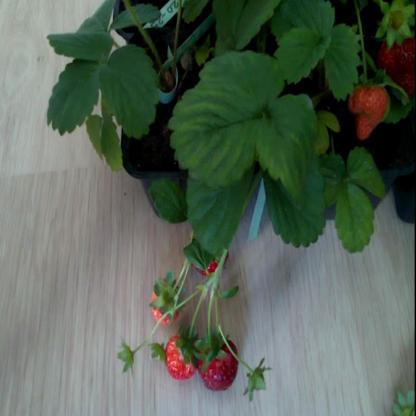ripe: (370, 30, 416, 113), (343, 79, 395, 150), (198, 338, 242, 391), (159, 330, 198, 386), (190, 236, 235, 276), (144, 278, 182, 322)
